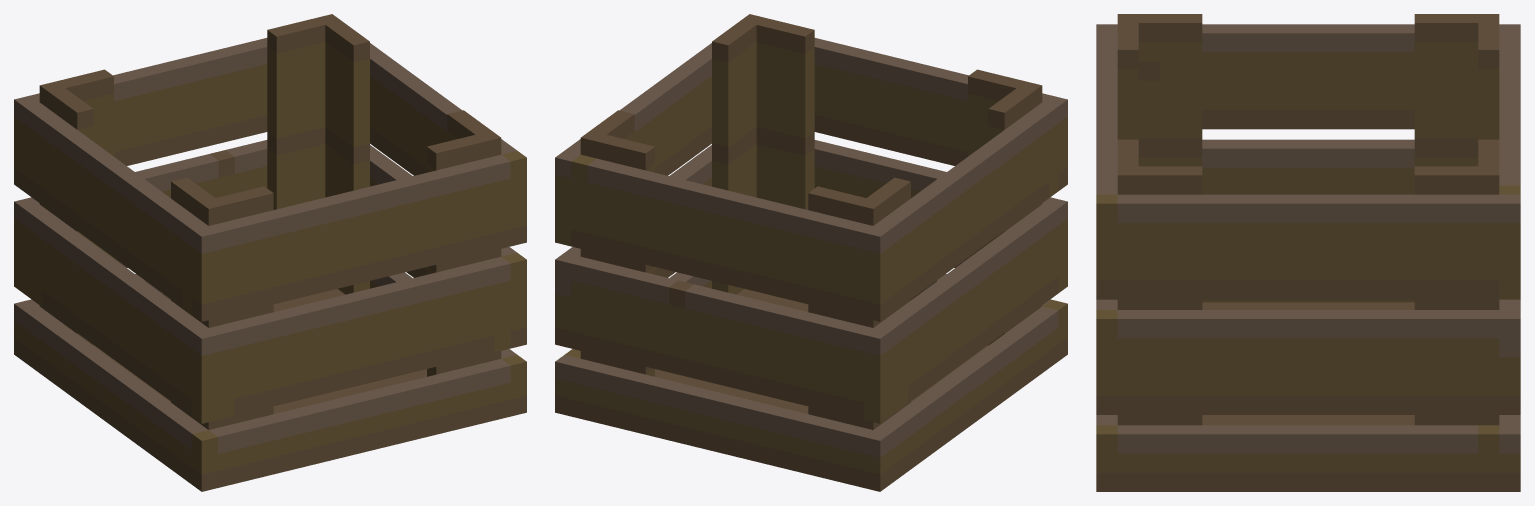
Rendered from box_small.obj.
The picture shows the model from 3 angles, left to right: view 1: azimuth 30°, elevation 25°; view 2: azimuth 150°, elevation 25°; view 3: azimuth 270°, elevation 25°; orthographic projection. The views are drawn at different scales.
Size of the model in its own units: 2 by 1.6 by 2.
Materials: 1 (1 with a texture image).
